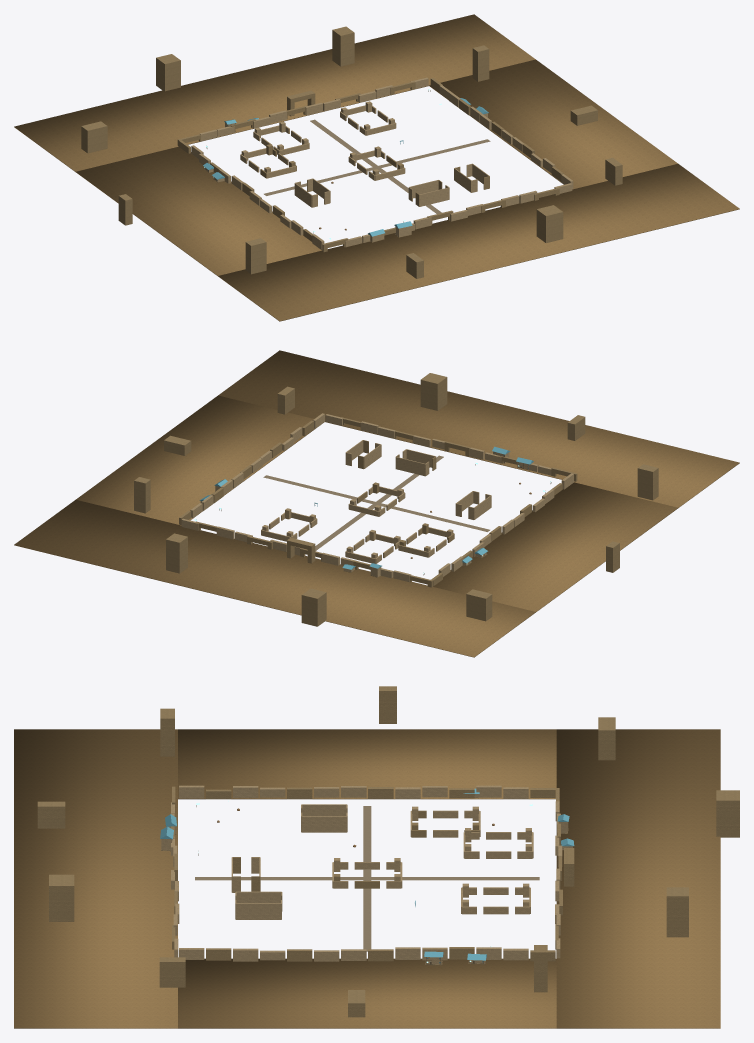
The model's file is kairou-lod2.glb.
3 views of the same model, one above another, from view 1: azimuth 30°, elevation 25°; view 2: azimuth 150°, elevation 25°; view 3: azimuth 270°, elevation 25° (orthographic). The views are drawn at different scales.
Parts seen in each view (by area): view 1: HB_kairou_LOD2_terrain, HB_kairou_LOD2_wall_alt, HB_kairou_LOD2_wall, HB_kairou_LOD2_road; view 2: HB_kairou_LOD2_terrain, HB_kairou_LOD2_wall_alt, HB_kairou_LOD2_wall, HB_kairou_LOD2_road; view 3: HB_kairou_LOD2_terrain, HB_kairou_LOD2_wall, HB_kairou_LOD2_wall_alt, HB_kairou_LOD2_road, HB_kairou_LOD2_accent.
Part boxes in pixels (x1,y1,x2,y2): HB_kairou_LOD2_terrain: [14, 14, 739, 321]; HB_kairou_LOD2_wall_alt: [81, 26, 622, 278]; HB_kairou_LOD2_wall: [191, 77, 573, 249]; HB_kairou_LOD2_road: [264, 119, 490, 213]; HB_kairou_LOD2_terrain: [14, 350, 739, 657]; HB_kairou_LOD2_wall_alt: [134, 373, 658, 626]; HB_kairou_LOD2_wall: [181, 413, 573, 582]; HB_kairou_LOD2_road: [263, 455, 489, 550]; HB_kairou_LOD2_terrain: [14, 729, 720, 1028]; HB_kairou_LOD2_wall: [161, 785, 572, 964]; HB_kairou_LOD2_wall_alt: [37, 686, 739, 1017]; HB_kairou_LOD2_road: [195, 806, 539, 951]; HB_kairou_LOD2_accent: [160, 788, 574, 960].
Bounding box in the file's own units: 581 × 36.73 × 575.
9 materials, 7 textured.
